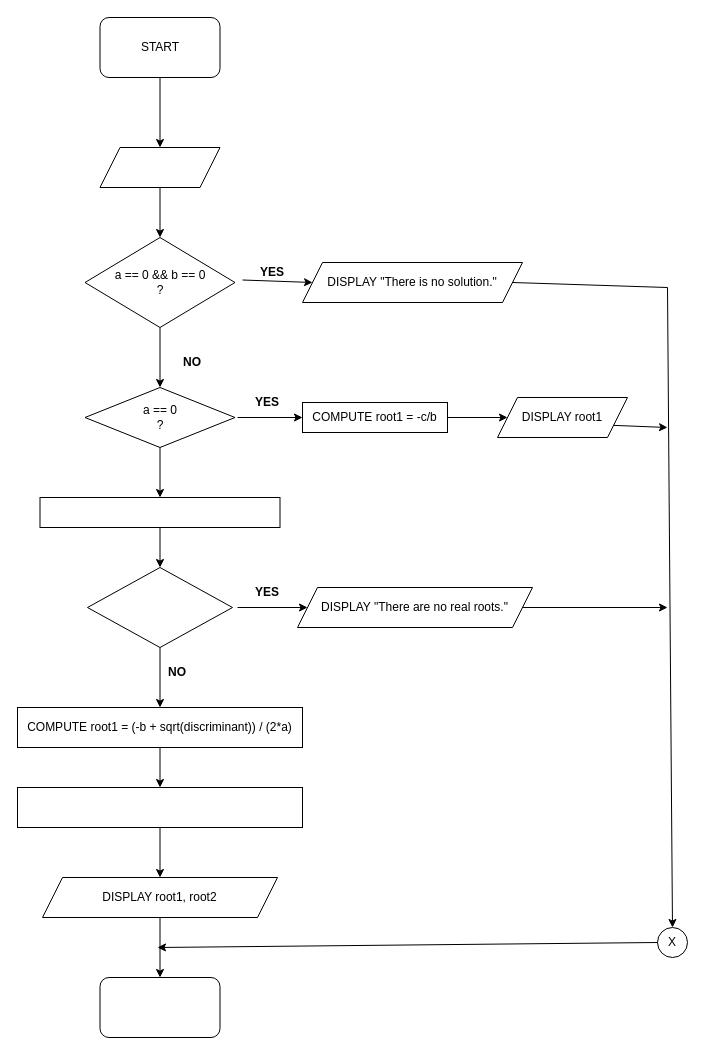
The diagram is 705 pixels wide and 1055 high, and some of its shapes have lost their labels. Each missing label, with the centre of its shape:
COMPUTE discriminant = (b*b) - (4*a*c): (159,512)
COMPUTE root2 = (-b - sqrt(discriminant)) / (2*a): (159,807)
discriminant < 0 ?: (159,607)
GET a, b, c: (159,167)
STOP: (159,1007)
